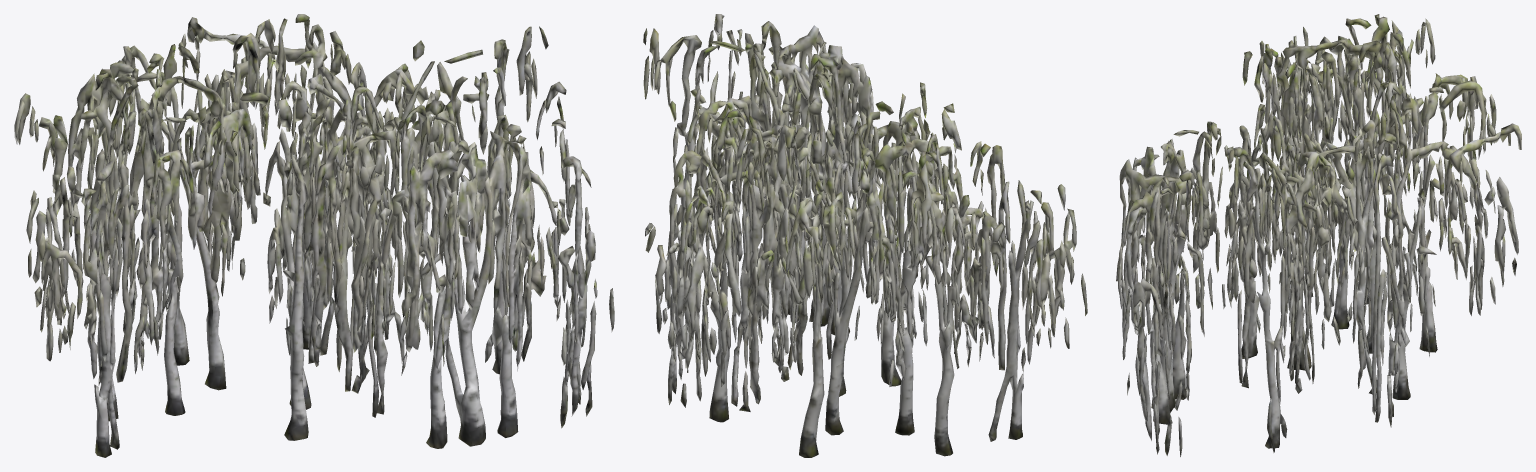
The model's file is AI_WhiteBirch031.fbx.
3 renders of one model, left to right at view 1: azimuth 30°, elevation 25°; view 2: azimuth 150°, elevation 25°; view 3: azimuth 270°, elevation 25°, orthographic. The views are drawn at different scales.
Visible parts, largest first — view 1: Mesh1.0; view 2: Mesh1.0; view 3: Mesh1.0.
Boxes of the visible parts, x1,y1,x2,y2 form: Mesh1.0: [14, 14, 614, 457]; Mesh1.0: [643, 14, 1087, 457]; Mesh1.0: [1116, 14, 1521, 456].
Size of the model in its own units: 198 by 135 by 161.
1 material, 1 textured.
